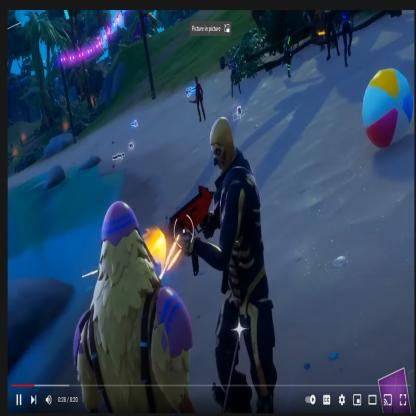person: (193, 114, 282, 412), (44, 118, 77, 160), (227, 56, 245, 98), (281, 34, 297, 80), (194, 82, 209, 122)
